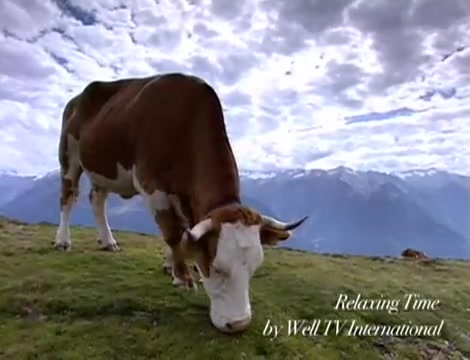cow: (60, 72, 310, 334)
